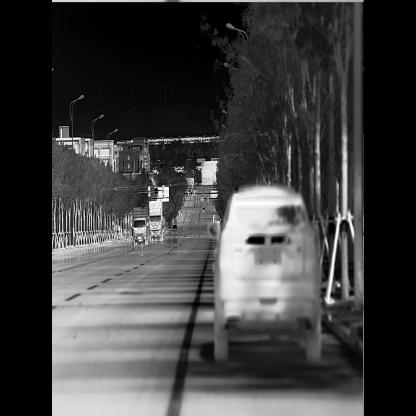car: (208, 184, 321, 363), (172, 224, 177, 236), (187, 185, 192, 196), (213, 216, 220, 222), (194, 182, 198, 191), (214, 217, 220, 223), (202, 207, 205, 212)
truck: (148, 199, 163, 240), (132, 207, 148, 245)
